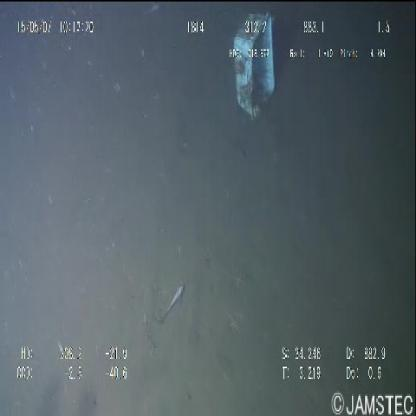Rác: (226, 4, 277, 128)
